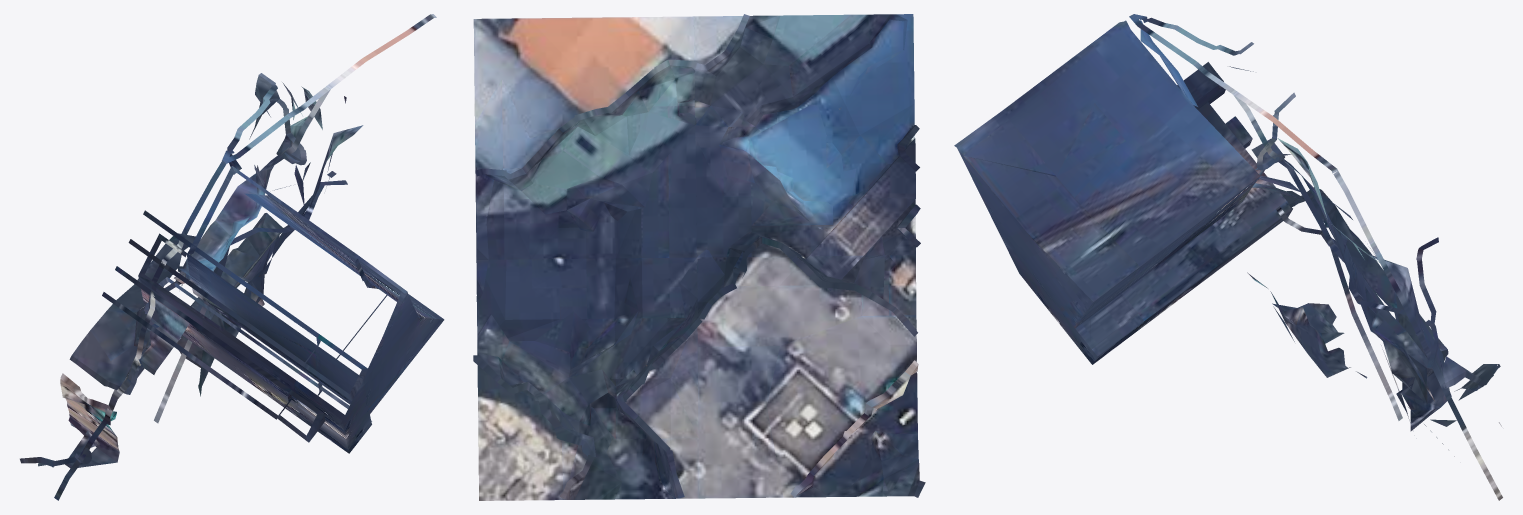
3 views of the same model, side by side, from view 1: azimuth 30°, elevation 25°; view 2: azimuth 150°, elevation 25°; view 3: azimuth 270°, elevation 25° (orthographic). The views are drawn at different scales.
Bounding box in the file's own units: 40.85 × 37.1 × 46.74.
1 material, 1 textured.
